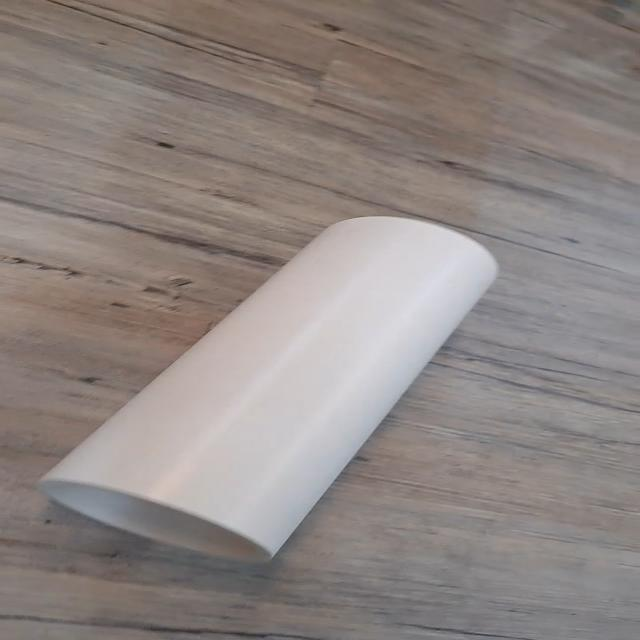CORAL: (30, 205, 509, 568)
